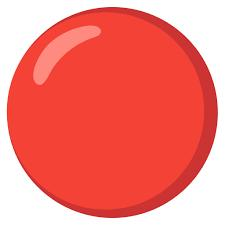red_circle: (3, 4, 218, 220)
